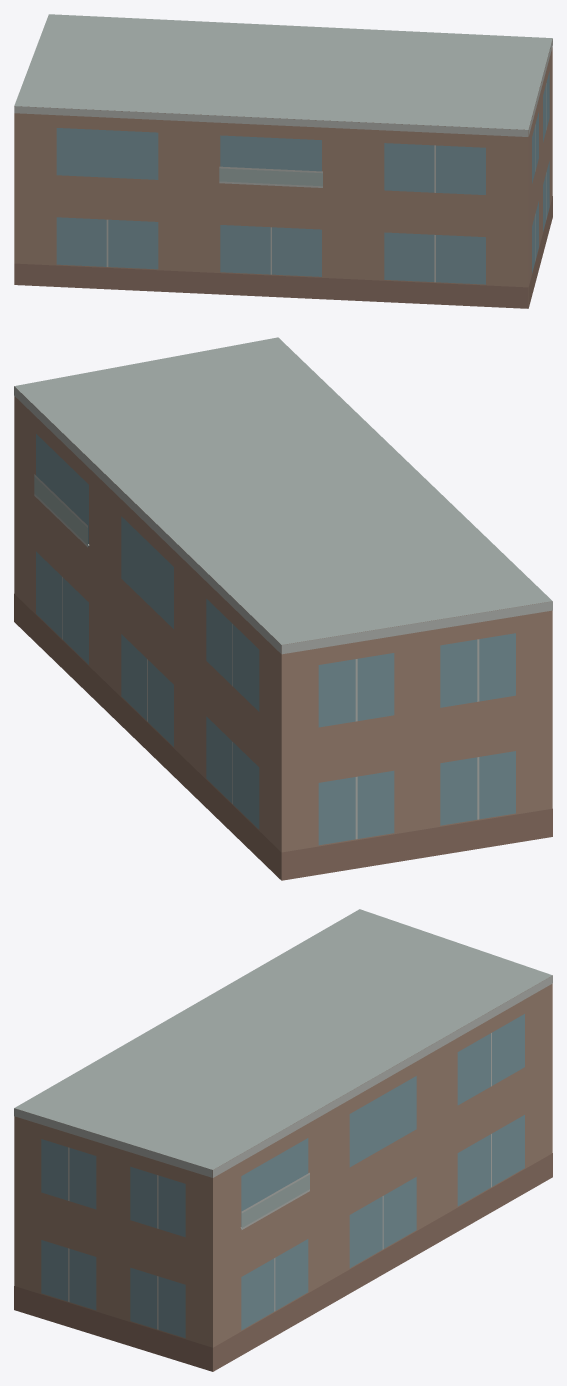
The model's file is survey-upis-33021023.glb.
3 renders of one model, top to bottom at view 1: azimuth 30°, elevation 25°; view 2: azimuth 150°, elevation 25°; view 3: azimuth 270°, elevation 25°, orthographic. The views are drawn at different scales.
Visible parts, largest first — view 1: survey-upis-33021023.tmp; view 2: survey-upis-33021023.tmp; view 3: survey-upis-33021023.tmp.
Part boxes in pixels (<box>): survey-upis-33021023.tmp: <box>14,14,552,308</box>; survey-upis-33021023.tmp: <box>14,337,552,880</box>; survey-upis-33021023.tmp: <box>14,909,552,1371</box>.
Bounding box in the file's own units: 16.92 × 6.1 × 14.76.
